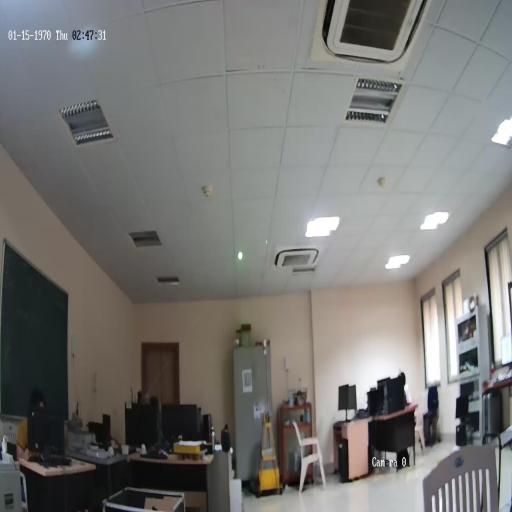laser: (237, 250, 244, 262)
